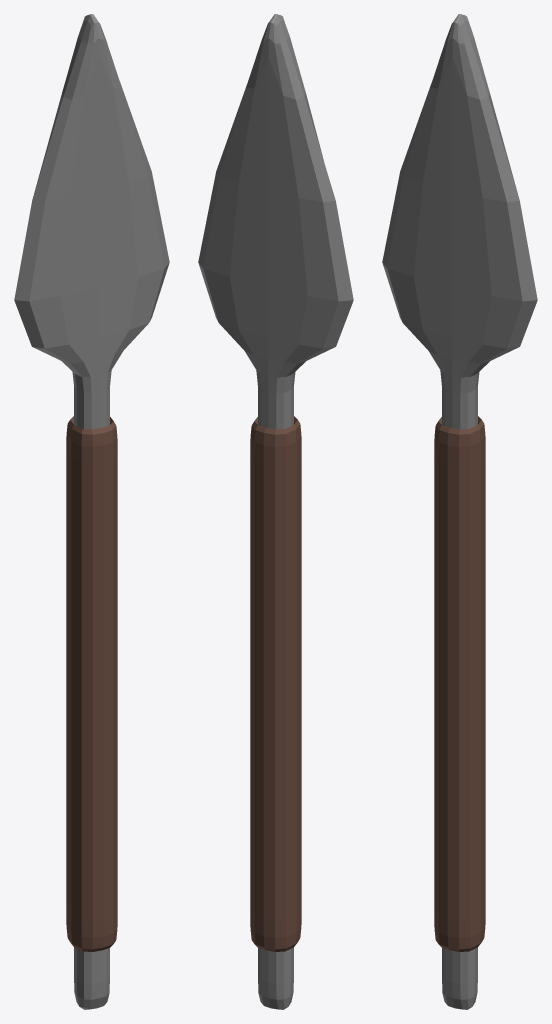
Rendered from RativousSpear.fbx.
3 renders of one model, left to right at view 1: azimuth 30°, elevation 25°; view 2: azimuth 150°, elevation 25°; view 3: azimuth 330°, elevation 25°, orthographic.
Parts seen in each view (by area): view 1: RativousSpear; view 2: RativousSpear; view 3: RativousSpear.
Boxes of the visible parts, x1=… form: RativousSpear: x1=14, y1=14, x2=169, y2=1009; RativousSpear: x1=198, y1=14, x2=353, y2=1009; RativousSpear: x1=382, y1=14, x2=537, y2=1009.
Bounding box in the file's own units: 28.86 × 176 × 8.01.
